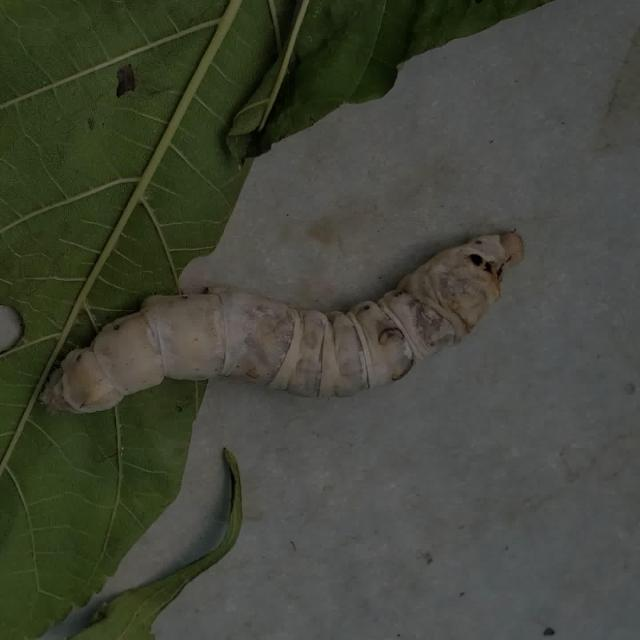Grasserie: (24, 204, 552, 466)
